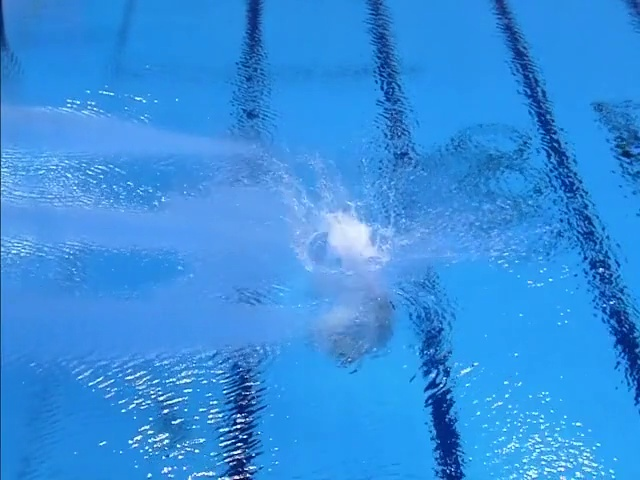splash: (242, 144, 433, 274)
